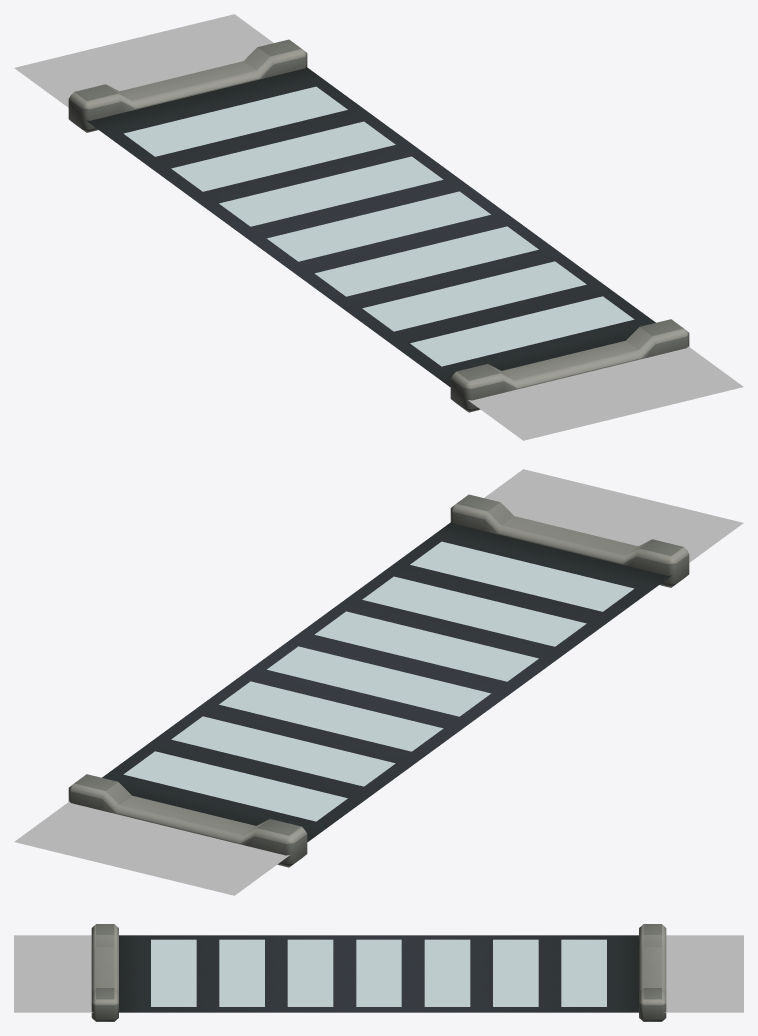
The model's file is road_section_zebra_crossing.fbx.
3 views of the same model, one above another, from view 1: azimuth 30°, elevation 25°; view 2: azimuth 150°, elevation 25°; view 3: azimuth 270°, elevation 25° (orthographic). The views are drawn at different scales.
Visible parts, largest first — view 1: road_section_zebra_crossing, road_section_zebra_crossing_sidewalk; view 2: road_section_zebra_crossing, road_section_zebra_crossing_sidewalk; view 3: road_section_zebra_crossing, road_section_zebra_crossing_sidewalk.
Boxes of the visible parts, x1=… form: road_section_zebra_crossing: x1=68, y1=39, x2=689, y2=412; road_section_zebra_crossing_sidewalk: x1=14, y1=14, x2=743, y2=440; road_section_zebra_crossing: x1=68, y1=494, x2=689, y2=867; road_section_zebra_crossing_sidewalk: x1=14, y1=469, x2=743, y2=895; road_section_zebra_crossing: x1=91, y1=924, x2=666, y2=1021; road_section_zebra_crossing_sidewalk: x1=14, y1=935, x2=743, y2=1012.
Bounding box in the file's own units: 410 × 55 × 1600.
